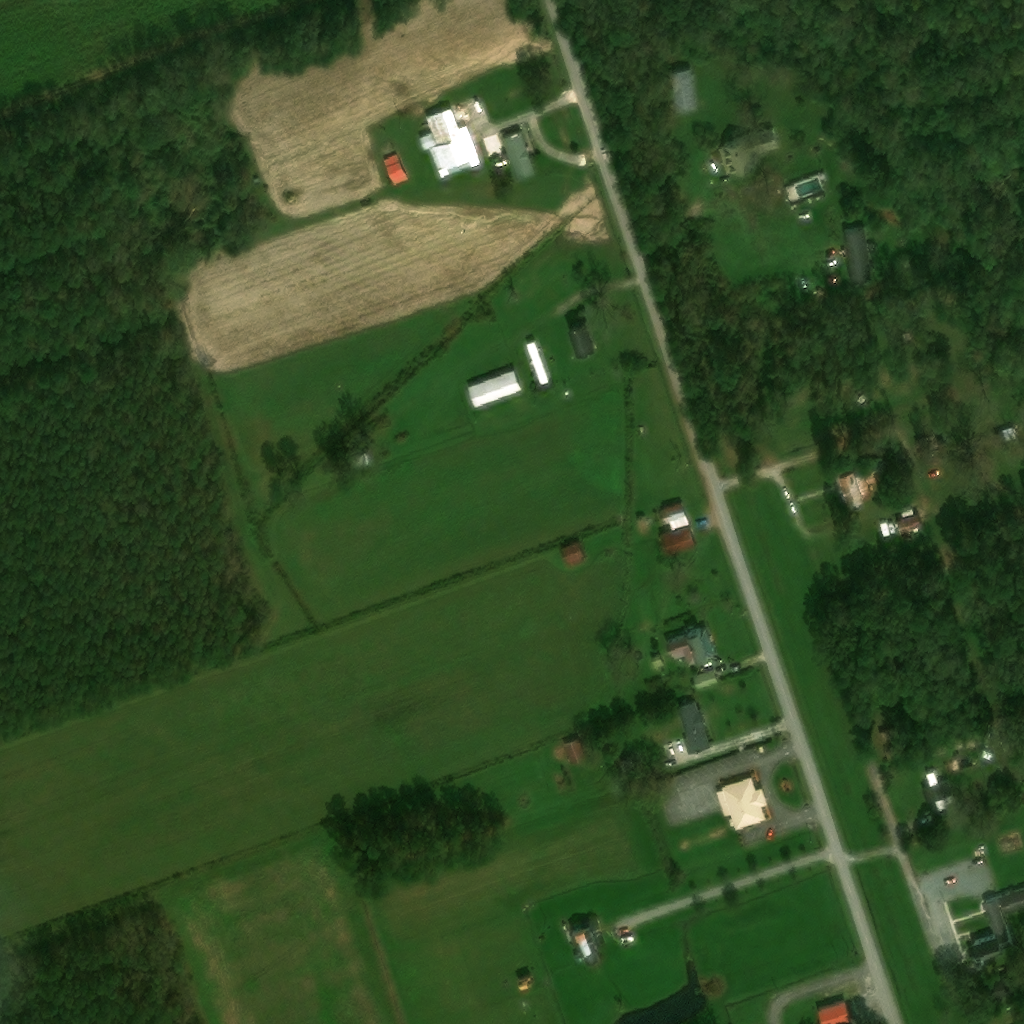minor_damage: (567, 918, 603, 963), (514, 972, 535, 991)
no_damage: (424, 108, 480, 179), (967, 896, 1015, 962), (714, 129, 777, 175), (716, 776, 767, 828), (830, 459, 887, 503), (665, 626, 716, 665), (467, 369, 520, 406), (841, 226, 873, 282), (501, 130, 534, 179), (677, 701, 709, 751), (664, 68, 694, 112), (922, 771, 955, 810), (524, 340, 550, 386), (661, 526, 698, 555), (816, 998, 852, 1023), (564, 323, 593, 354), (382, 154, 409, 187), (998, 883, 1024, 915), (661, 502, 691, 529), (561, 538, 587, 568), (346, 444, 376, 470), (565, 738, 591, 766), (984, 976, 1013, 999), (895, 513, 921, 535), (990, 424, 1016, 444), (694, 670, 719, 690), (637, 517, 651, 535), (651, 653, 663, 668), (472, 98, 482, 115), (935, 504, 946, 518), (979, 848, 988, 859)
